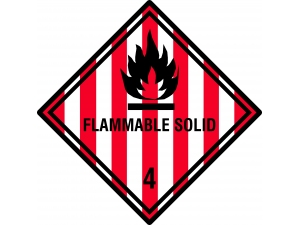FlammableSolid: (48, 8, 261, 218)
